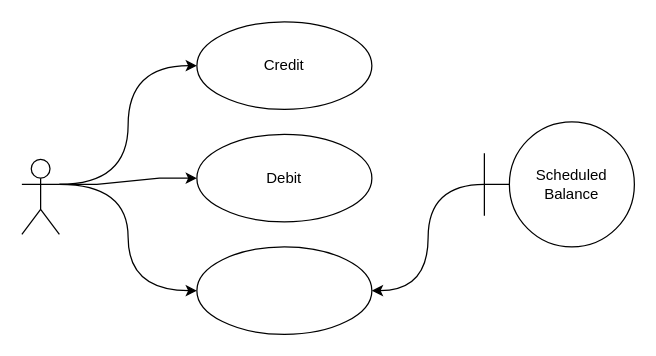
Image size: 656x356. Some labels were removed from this diagram. Each missing label, with the centre of its shape:
Report Daily Balance: the point at 284,290
Seller: the point at 40,196
